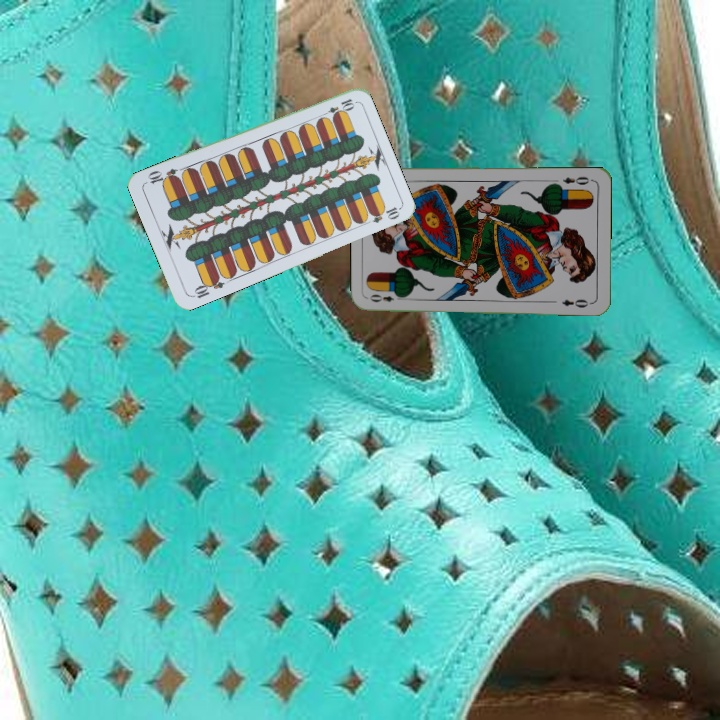E10: (188, 272, 227, 301), (317, 94, 357, 120)
EO: (366, 290, 406, 304), (559, 172, 595, 187)
